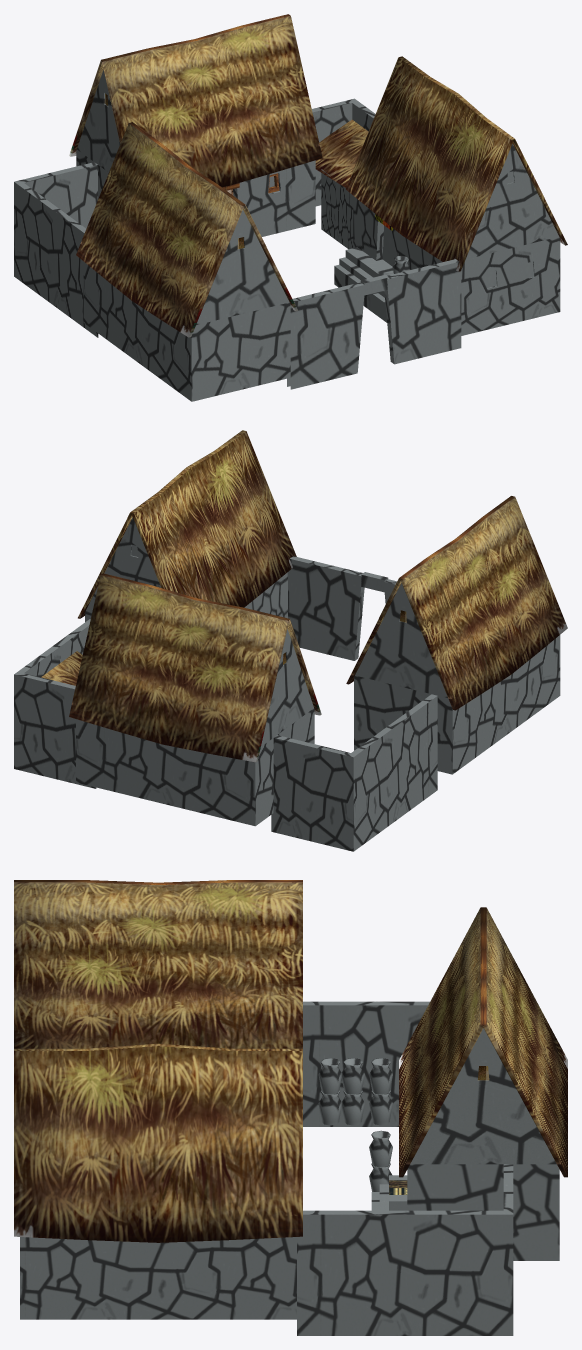
The model's file is inca_house_comunal.dae.
The picture shows the model from 3 angles, top to bottom: view 1: azimuth 30°, elevation 25°; view 2: azimuth 150°, elevation 25°; view 3: azimuth 270°, elevation 25°; orthographic projection. The views are drawn at different scales.
Visible parts, largest first — view 1: casa_comunal; view 2: casa_comunal; view 3: casa_comunal.
Part boxes in pixels (<box>): casa_comunal: <box>14,14,567,401</box>; casa_comunal: <box>14,430,567,851</box>; casa_comunal: <box>14,880,567,1335</box>.
Bounding box in the file's own units: 26.02 × 25.69 × 14.06.
